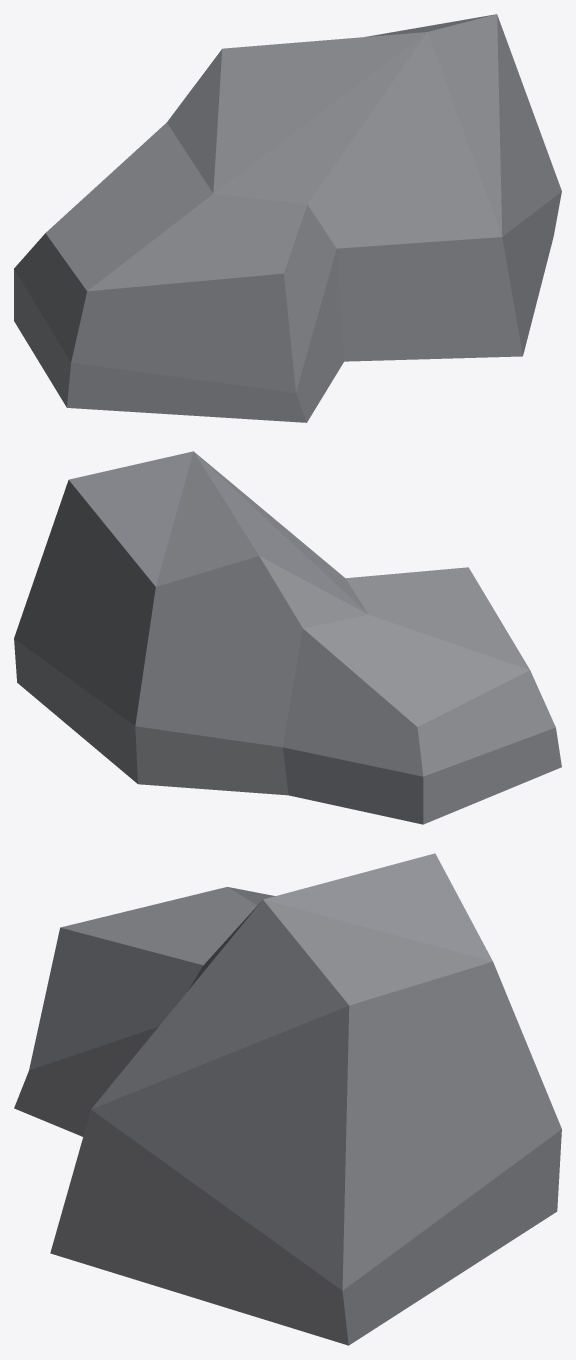
The model's file is stone_1.fbx.
3 renders of one model, top to bottom at view 1: azimuth 30°, elevation 25°; view 2: azimuth 150°, elevation 25°; view 3: azimuth 270°, elevation 25°, orthographic. The views are drawn at different scales.
Parts seen in each view (by area): view 1: stone_1; view 2: stone_1; view 3: stone_1.
Part boxes in pixels (x1,y1,x2,y2): stone_1: (14, 14, 561, 422); stone_1: (14, 451, 561, 824); stone_1: (14, 853, 561, 1345).
Bounding box in the file's own units: 147 × 68.87 × 98.99.
